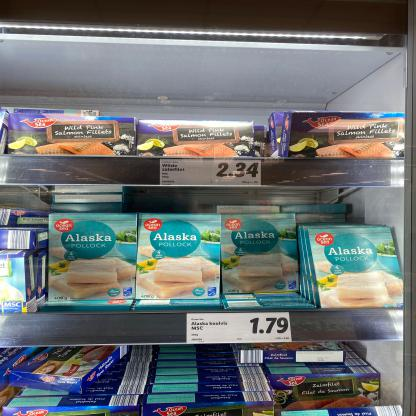prtg: (188, 313, 293, 344), (161, 160, 262, 187)
